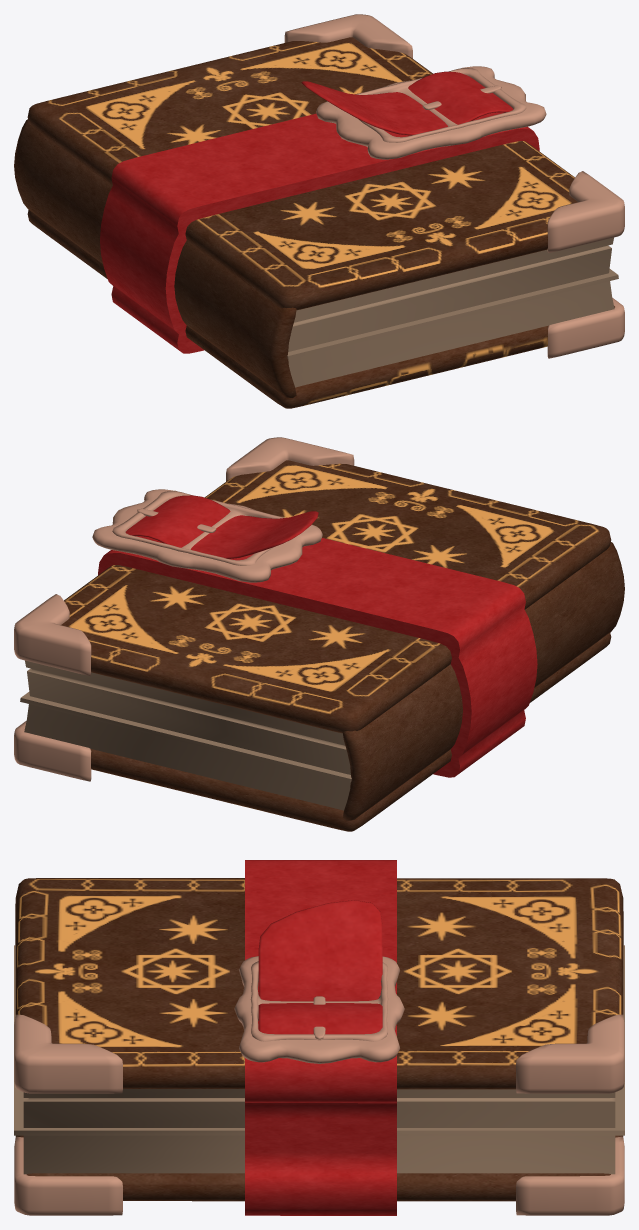
3 renders of one model, top to bottom at view 1: azimuth 30°, elevation 25°; view 2: azimuth 150°, elevation 25°; view 3: azimuth 270°, elevation 25°, orthographic. The views are drawn at different scales.
Visible parts, largest first — view 1: tome_v1; view 2: tome_v1; view 3: tome_v1.
Part boxes in pixels (bbox=[...]): tome_v1: bbox=[14, 14, 624, 408]; tome_v1: bbox=[14, 437, 624, 831]; tome_v1: bbox=[14, 860, 624, 1215].
Bounding box in the file's own units: 1.71 × 0.8046 × 2.01.
4 materials, 4 textured.
